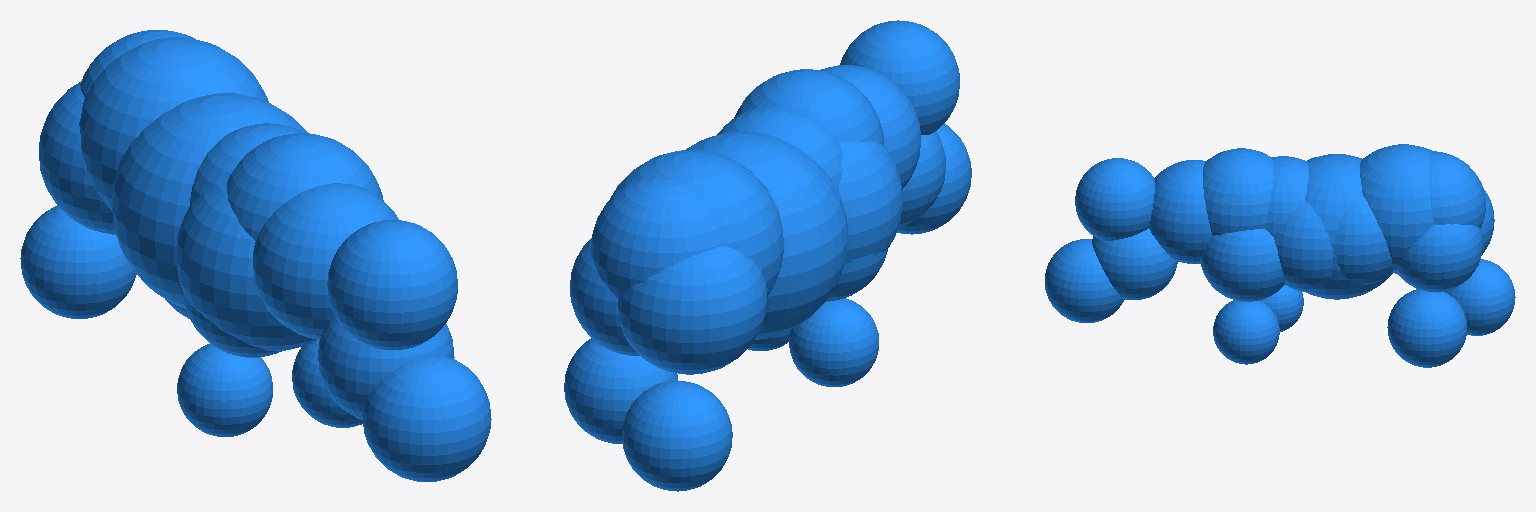
The robot description file, URDF, robot "rhino":
<?xml version="1.0"?>
<robot name="rhino">
  <!-- morphit:centroid 0.001506 0.010010 0.030934 -->
  <material name="default_color">
    <color rgba="0.200000 0.600000 1.000000 1.000000"/>
  </material>
  <link name="base">
    <inertial>
      <mass value="0.001000"/>
      <inertia ixx="0.000010" ixy="0.0" ixz="0.0" iyy="0.000010" iyz="0.0" izz="0.000010"/>
    </inertial>
  </link>
  <link name="sphere_0">
    <visual>
      <origin xyz="0 0 0" rpy="0 0 0"/>
      <geometry><sphere radius="0.012502"/></geometry>
      <material name="default_color"/>
    </visual>
    <collision>
      <origin xyz="0 0 0" rpy="0 0 0"/>
      <geometry><sphere radius="0.012502"/></geometry>
    </collision>
    <inertial>
      <mass value="0.032071"/>
      <inertia ixx="0.000002" ixy="0.0" ixz="0.0" iyy="0.000002" iyz="0.0" izz="0.000002"/>
    </inertial>
  </link>
  <joint name="sphere_0_fixed" type="fixed">
    <parent link="base"/>
    <child link="sphere_0"/>
    <origin xyz="0.000195 -0.045938 -0.002954" rpy="0 0 0"/>
  </joint>
  <link name="sphere_1">
    <visual>
      <origin xyz="0 0 0" rpy="0 0 0"/>
      <geometry><sphere radius="0.011185"/></geometry>
      <material name="default_color"/>
    </visual>
    <collision>
      <origin xyz="0 0 0" rpy="0 0 0"/>
      <geometry><sphere radius="0.011185"/></geometry>
    </collision>
    <inertial>
      <mass value="0.022965"/>
      <inertia ixx="0.000001" ixy="0.0" ixz="0.0" iyy="0.000001" iyz="0.0" izz="0.000001"/>
    </inertial>
  </link>
  <joint name="sphere_1_fixed" type="fixed">
    <parent link="base"/>
    <child link="sphere_1"/>
    <origin xyz="0.011345 0.036099 -0.019956" rpy="0 0 0"/>
  </joint>
  <link name="sphere_2">
    <visual>
      <origin xyz="0 0 0" rpy="0 0 0"/>
      <geometry><sphere radius="0.010796"/></geometry>
      <material name="default_color"/>
    </visual>
    <collision>
      <origin xyz="0 0 0" rpy="0 0 0"/>
      <geometry><sphere radius="0.010796"/></geometry>
    </collision>
    <inertial>
      <mass value="0.020654"/>
      <inertia ixx="0.000001" ixy="0.0" ixz="0.0" iyy="0.000001" iyz="0.0" izz="0.000001"/>
    </inertial>
  </link>
  <joint name="sphere_2_fixed" type="fixed">
    <parent link="base"/>
    <child link="sphere_2"/>
    <origin xyz="-0.009169 0.049892 -0.020151" rpy="0 0 0"/>
  </joint>
  <link name="sphere_3">
    <visual>
      <origin xyz="0 0 0" rpy="0 0 0"/>
      <geometry><sphere radius="0.009356"/></geometry>
      <material name="default_color"/>
    </visual>
    <collision>
      <origin xyz="0 0 0" rpy="0 0 0"/>
      <geometry><sphere radius="0.009356"/></geometry>
    </collision>
    <inertial>
      <mass value="0.013445"/>
      <inertia ixx="0.000000" ixy="0.0" ixz="0.0" iyy="0.000000" iyz="0.0" izz="0.000000"/>
    </inertial>
  </link>
  <joint name="sphere_3_fixed" type="fixed">
    <parent link="base"/>
    <child link="sphere_3"/>
    <origin xyz="0.009251 -0.014459 -0.021957" rpy="0 0 0"/>
  </joint>
  <link name="sphere_4">
    <visual>
      <origin xyz="0 0 0" rpy="0 0 0"/>
      <geometry><sphere radius="0.017600"/></geometry>
      <material name="default_color"/>
    </visual>
    <collision>
      <origin xyz="0 0 0" rpy="0 0 0"/>
      <geometry><sphere radius="0.017600"/></geometry>
    </collision>
    <inertial>
      <mass value="0.089478"/>
      <inertia ixx="0.000011" ixy="0.0" ixz="0.0" iyy="0.000011" iyz="0.0" izz="0.000011"/>
    </inertial>
  </link>
  <joint name="sphere_4_fixed" type="fixed">
    <parent link="base"/>
    <child link="sphere_4"/>
    <origin xyz="-0.004046 -0.011551 0.004442" rpy="0 0 0"/>
  </joint>
  <link name="sphere_5">
    <visual>
      <origin xyz="0 0 0" rpy="0 0 0"/>
      <geometry><sphere radius="0.014605"/></geometry>
      <material name="default_color"/>
    </visual>
    <collision>
      <origin xyz="0 0 0" rpy="0 0 0"/>
      <geometry><sphere radius="0.014605"/></geometry>
    </collision>
    <inertial>
      <mass value="0.051140"/>
      <inertia ixx="0.000004" ixy="0.0" ixz="0.0" iyy="0.000004" iyz="0.0" izz="0.000004"/>
    </inertial>
  </link>
  <joint name="sphere_5_fixed" type="fixed">
    <parent link="base"/>
    <child link="sphere_5"/>
    <origin xyz="-0.001582 -0.028986 0.009727" rpy="0 0 0"/>
  </joint>
  <link name="sphere_6">
    <visual>
      <origin xyz="0 0 0" rpy="0 0 0"/>
      <geometry><sphere radius="0.008814"/></geometry>
      <material name="default_color"/>
    </visual>
    <collision>
      <origin xyz="0 0 0" rpy="0 0 0"/>
      <geometry><sphere radius="0.008814"/></geometry>
    </collision>
    <inertial>
      <mass value="0.011239"/>
      <inertia ixx="0.000000" ixy="0.0" ixz="0.0" iyy="0.000000" iyz="0.0" izz="0.000000"/>
    </inertial>
  </link>
  <joint name="sphere_6_fixed" type="fixed">
    <parent link="base"/>
    <child link="sphere_6"/>
    <origin xyz="-0.011416 -0.007212 -0.022545" rpy="0 0 0"/>
  </joint>
  <link name="sphere_7">
    <visual>
      <origin xyz="0 0 0" rpy="0 0 0"/>
      <geometry><sphere radius="0.015301"/></geometry>
      <material name="default_color"/>
    </visual>
    <collision>
      <origin xyz="0 0 0" rpy="0 0 0"/>
      <geometry><sphere radius="0.015301"/></geometry>
    </collision>
    <inertial>
      <mass value="0.058800"/>
      <inertia ixx="0.000006" ixy="0.0" ixz="0.0" iyy="0.000006" iyz="0.0" izz="0.000006"/>
    </inertial>
  </link>
  <joint name="sphere_7_fixed" type="fixed">
    <parent link="base"/>
    <child link="sphere_7"/>
    <origin xyz="-0.000248 -0.015832 0.013069" rpy="0 0 0"/>
  </joint>
  <link name="sphere_8">
    <visual>
      <origin xyz="0 0 0" rpy="0 0 0"/>
      <geometry><sphere radius="0.011986"/></geometry>
      <material name="default_color"/>
    </visual>
    <collision>
      <origin xyz="0 0 0" rpy="0 0 0"/>
      <geometry><sphere radius="0.011986"/></geometry>
    </collision>
    <inertial>
      <mass value="0.028262"/>
      <inertia ixx="0.000002" ixy="0.0" ixz="0.0" iyy="0.000002" iyz="0.0" izz="0.000002"/>
    </inertial>
  </link>
  <joint name="sphere_8_fixed" type="fixed">
    <parent link="base"/>
    <child link="sphere_8"/>
    <origin xyz="-0.000991 -0.050373 0.013394" rpy="0 0 0"/>
  </joint>
  <link name="sphere_9">
    <visual>
      <origin xyz="0 0 0" rpy="0 0 0"/>
      <geometry><sphere radius="0.020375"/></geometry>
      <material name="default_color"/>
    </visual>
    <collision>
      <origin xyz="0 0 0" rpy="0 0 0"/>
      <geometry><sphere radius="0.020375"/></geometry>
    </collision>
    <inertial>
      <mass value="0.138845"/>
      <inertia ixx="0.000023" ixy="0.0" ixz="0.0" iyy="0.000023" iyz="0.0" izz="0.000023"/>
    </inertial>
  </link>
  <joint name="sphere_9_fixed" type="fixed">
    <parent link="base"/>
    <child link="sphere_9"/>
    <origin xyz="-0.001519 0.010778 0.005176" rpy="0 0 0"/>
  </joint>
  <link name="sphere_10">
    <visual>
      <origin xyz="0 0 0" rpy="0 0 0"/>
      <geometry><sphere radius="0.018162"/></geometry>
      <material name="default_color"/>
    </visual>
    <collision>
      <origin xyz="0 0 0" rpy="0 0 0"/>
      <geometry><sphere radius="0.018162"/></geometry>
    </collision>
    <inertial>
      <mass value="0.098328"/>
      <inertia ixx="0.000013" ixy="0.0" ixz="0.0" iyy="0.000013" iyz="0.0" izz="0.000013"/>
    </inertial>
  </link>
  <joint name="sphere_10_fixed" type="fixed">
    <parent link="base"/>
    <child link="sphere_10"/>
    <origin xyz="-0.000590 0.029488 0.011018" rpy="0 0 0"/>
  </joint>
  <link name="sphere_11">
    <visual>
      <origin xyz="0 0 0" rpy="0 0 0"/>
      <geometry><sphere radius="0.013374"/></geometry>
      <material name="default_color"/>
    </visual>
    <collision>
      <origin xyz="0 0 0" rpy="0 0 0"/>
      <geometry><sphere radius="0.013374"/></geometry>
    </collision>
    <inertial>
      <mass value="0.039267"/>
      <inertia ixx="0.000003" ixy="0.0" ixz="0.0" iyy="0.000003" iyz="0.0" izz="0.000003"/>
    </inertial>
  </link>
  <joint name="sphere_11_fixed" type="fixed">
    <parent link="base"/>
    <child link="sphere_11"/>
    <origin xyz="0.006316 0.038267 0.003367" rpy="0 0 0"/>
  </joint>
  <link name="sphere_12">
    <visual>
      <origin xyz="0 0 0" rpy="0 0 0"/>
      <geometry><sphere radius="0.015115"/></geometry>
      <material name="default_color"/>
    </visual>
    <collision>
      <origin xyz="0 0 0" rpy="0 0 0"/>
      <geometry><sphere radius="0.015115"/></geometry>
    </collision>
    <inertial>
      <mass value="0.056680"/>
      <inertia ixx="0.000005" ixy="0.0" ixz="0.0" iyy="0.000005" iyz="0.0" izz="0.000005"/>
    </inertial>
  </link>
  <joint name="sphere_12_fixed" type="fixed">
    <parent link="base"/>
    <child link="sphere_12"/>
    <origin xyz="0.000097 0.037388 0.012545" rpy="0 0 0"/>
  </joint>
  <link name="sphere_13">
    <visual>
      <origin xyz="0 0 0" rpy="0 0 0"/>
      <geometry><sphere radius="0.011814"/></geometry>
      <material name="default_color"/>
    </visual>
    <collision>
      <origin xyz="0 0 0" rpy="0 0 0"/>
      <geometry><sphere radius="0.011814"/></geometry>
    </collision>
    <inertial>
      <mass value="0.027066"/>
      <inertia ixx="0.000002" ixy="0.0" ixz="0.0" iyy="0.000002" iyz="0.0" izz="0.000002"/>
    </inertial>
  </link>
  <joint name="sphere_13_fixed" type="fixed">
    <parent link="base"/>
    <child link="sphere_13"/>
    <origin xyz="0.001214 -0.059050 -0.010313" rpy="0 0 0"/>
  </joint>
  <link name="sphere_14">
    <visual>
      <origin xyz="0 0 0" rpy="0 0 0"/>
      <geometry><sphere radius="0.014995"/></geometry>
      <material name="default_color"/>
    </visual>
    <collision>
      <origin xyz="0 0 0" rpy="0 0 0"/>
      <geometry><sphere radius="0.014995"/></geometry>
    </collision>
    <inertial>
      <mass value="0.055338"/>
      <inertia ixx="0.000005" ixy="0.0" ixz="0.0" iyy="0.000005" iyz="0.0" izz="0.000005"/>
    </inertial>
  </link>
  <joint name="sphere_14_fixed" type="fixed">
    <parent link="base"/>
    <child link="sphere_14"/>
    <origin xyz="-0.006302 0.039874 0.004833" rpy="0 0 0"/>
  </joint>
  <link name="sphere_15">
    <visual>
      <origin xyz="0 0 0" rpy="0 0 0"/>
      <geometry><sphere radius="0.013509"/></geometry>
      <material name="default_color"/>
    </visual>
    <collision>
      <origin xyz="0 0 0" rpy="0 0 0"/>
      <geometry><sphere radius="0.013509"/></geometry>
    </collision>
    <inertial>
      <mass value="0.040465"/>
      <inertia ixx="0.000003" ixy="0.0" ixz="0.0" iyy="0.000003" iyz="0.0" izz="0.000003"/>
    </inertial>
  </link>
  <joint name="sphere_15_fixed" type="fixed">
    <parent link="base"/>
    <child link="sphere_15"/>
    <origin xyz="0.006855 -0.014106 0.000782" rpy="0 0 0"/>
  </joint>
  <link name="sphere_16">
    <visual>
      <origin xyz="0 0 0" rpy="0 0 0"/>
      <geometry><sphere radius="0.012884"/></geometry>
      <material name="default_color"/>
    </visual>
    <collision>
      <origin xyz="0 0 0" rpy="0 0 0"/>
      <geometry><sphere radius="0.012884"/></geometry>
    </collision>
    <inertial>
      <mass value="0.035103"/>
      <inertia ixx="0.000002" ixy="0.0" ixz="0.0" iyy="0.000002" iyz="0.0" izz="0.000002"/>
    </inertial>
  </link>
  <joint name="sphere_16_fixed" type="fixed">
    <parent link="base"/>
    <child link="sphere_16"/>
    <origin xyz="-0.007293 -0.010094 -0.001829" rpy="0 0 0"/>
  </joint>
  <link name="sphere_17">
    <visual>
      <origin xyz="0 0 0" rpy="0 0 0"/>
      <geometry><sphere radius="0.015684"/></geometry>
      <material name="default_color"/>
    </visual>
    <collision>
      <origin xyz="0 0 0" rpy="0 0 0"/>
      <geometry><sphere radius="0.015684"/></geometry>
    </collision>
    <inertial>
      <mass value="0.063331"/>
      <inertia ixx="0.000006" ixy="0.0" ixz="0.0" iyy="0.000006" iyz="0.0" izz="0.000006"/>
    </inertial>
  </link>
  <joint name="sphere_17_fixed" type="fixed">
    <parent link="base"/>
    <child link="sphere_17"/>
    <origin xyz="0.004132 0.004165 0.004752" rpy="0 0 0"/>
  </joint>
  <link name="sphere_18">
    <visual>
      <origin xyz="0 0 0" rpy="0 0 0"/>
      <geometry><sphere radius="0.015291"/></geometry>
      <material name="default_color"/>
    </visual>
    <collision>
      <origin xyz="0 0 0" rpy="0 0 0"/>
      <geometry><sphere radius="0.015291"/></geometry>
    </collision>
    <inertial>
      <mass value="0.058682"/>
      <inertia ixx="0.000005" ixy="0.0" ixz="0.0" iyy="0.000005" iyz="0.0" izz="0.000005"/>
    </inertial>
  </link>
  <joint name="sphere_18_fixed" type="fixed">
    <parent link="base"/>
    <child link="sphere_18"/>
    <origin xyz="0.004525 0.015773 0.006177" rpy="0 0 0"/>
  </joint>
  <link name="sphere_19">
    <visual>
      <origin xyz="0 0 0" rpy="0 0 0"/>
      <geometry><sphere radius="0.015304"/></geometry>
      <material name="default_color"/>
    </visual>
    <collision>
      <origin xyz="0 0 0" rpy="0 0 0"/>
      <geometry><sphere radius="0.015304"/></geometry>
    </collision>
    <inertial>
      <mass value="0.058839"/>
      <inertia ixx="0.000006" ixy="0.0" ixz="0.0" iyy="0.000006" iyz="0.0" izz="0.000006"/>
    </inertial>
  </link>
  <joint name="sphere_19_fixed" type="fixed">
    <parent link="base"/>
    <child link="sphere_19"/>
    <origin xyz="-0.000775 -0.004126 0.010423" rpy="0 0 0"/>
  </joint>
</robot>

--- Facts derived from the render (not from the file) ---
3 views of the same robot in one strip: view 1: azimuth 30°, elevation 25°; view 2: azimuth 150°, elevation 25°; view 3: azimuth 270°, elevation 25° (orthographic).
Model rhino with 21 links and 20 joints (20 fixed), rooted at base, posed all joints at 0.
Visible links, largest first — view 1: sphere_9, sphere_8, sphere_10, sphere_13, sphere_5, sphere_4, sphere_2, sphere_7, sphere_6, sphere_14, sphere_0, sphere_19 (+3 smaller); view 2: sphere_14, sphere_9, sphere_12, sphere_2, sphere_10, sphere_8, sphere_1, sphere_4, sphere_6, sphere_7, sphere_5, sphere_19 (+4 smaller); view 3: sphere_10, sphere_8, sphere_7, sphere_1, sphere_5, sphere_15, sphere_13, sphere_11, sphere_9, sphere_0, sphere_17, sphere_18 (+5 smaller).
Link boxes in pixels (x1=…): sphere_9: x1=112, y1=93, x2=307, y2=308; sphere_8: x1=327, y1=220, x2=457, y2=349; sphere_10: x1=79, y1=37, x2=268, y2=209; sphere_13: x1=362, y1=355, x2=491, y2=481; sphere_5: x1=253, y1=183, x2=398, y2=339; sphere_4: x1=176, y1=182, x2=316, y2=350; sphere_2: x1=20, y1=205, x2=136, y2=318; sphere_7: x1=226, y1=133, x2=383, y2=240; sphere_6: x1=177, y1=344, x2=272, y2=436; sphere_14: x1=39, y1=82, x2=115, y2=234; sphere_0: x1=318, y1=316, x2=454, y2=419; sphere_19: x1=190, y1=123, x2=304, y2=205; sphere_14: x1=618, y1=246, x2=766, y2=374; sphere_9: x1=686, y1=131, x2=847, y2=339; sphere_12: x1=591, y1=176, x2=723, y2=297; sphere_2: x1=622, y1=381, x2=732, y2=491; sphere_10: x1=610, y1=150, x2=783, y2=296; sphere_8: x1=840, y1=20, x2=959, y2=134; sphere_1: x1=564, y1=338, x2=677, y2=443; sphere_4: x1=838, y1=141, x2=902, y2=262; sphere_6: x1=789, y1=298, x2=878, y2=386; sphere_7: x1=734, y1=69, x2=883, y2=144; sphere_5: x1=820, y1=65, x2=920, y2=189; sphere_19: x1=717, y1=106, x2=842, y2=190; sphere_10: x1=1360, y1=144, x2=1433, y2=273; sphere_8: x1=1075, y1=158, x2=1154, y2=240; sphere_7: x1=1203, y1=148, x2=1273, y2=235; sphere_1: x1=1387, y1=289, x2=1466, y2=367; sphere_5: x1=1149, y1=160, x2=1212, y2=263; sphere_15: x1=1200, y1=229, x2=1284, y2=301; sphere_13: x1=1045, y1=239, x2=1124, y2=322; sphere_11: x1=1396, y1=224, x2=1482, y2=291; sphere_9: x1=1305, y1=154, x2=1392, y2=299; sphere_0: x1=1092, y1=228, x2=1177, y2=299; sphere_17: x1=1274, y1=201, x2=1332, y2=292; sphere_18: x1=1334, y1=195, x2=1392, y2=284.
Size in the robot's own frame: 0.0444 by 0.1316 by 0.0605 metres.
Geometry: primitives only (box / cylinder / sphere), no mesh files.
